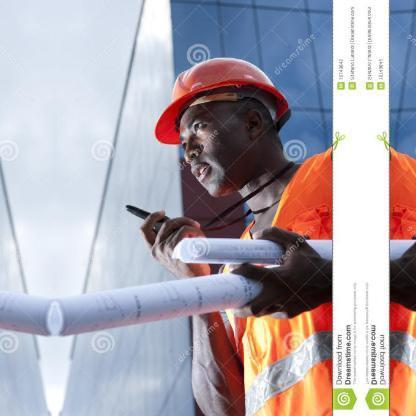helmet: (147, 55, 293, 140)
